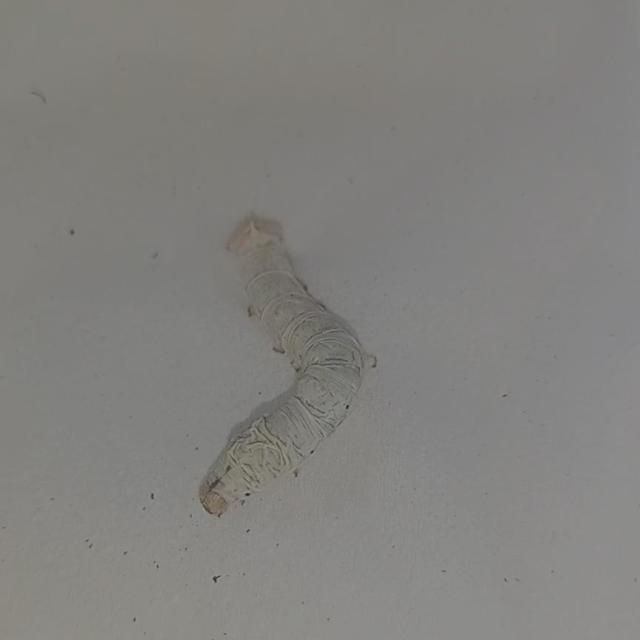Healthy: (181, 178, 400, 541)
